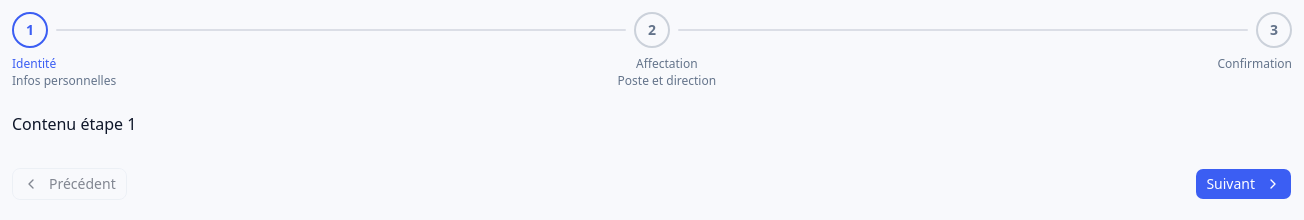
Stepper — navigation › revient à l'étape précédente en cliquant Précédent
Click the button with test id "stepper-next-button".
click(1244, 184)  # box x1=1195 y1=168 x2=1292 y2=200
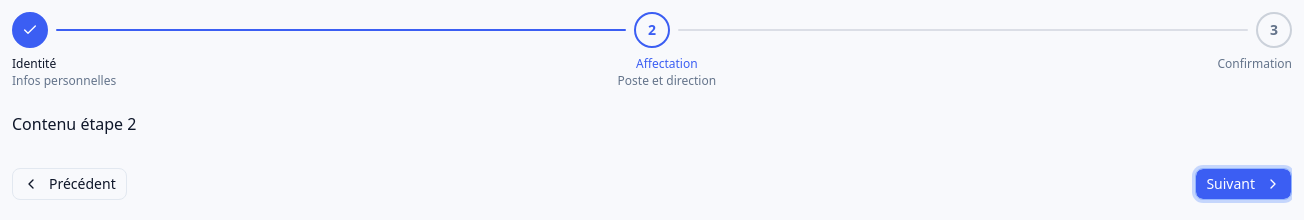
Click the button with test id "stepper-prev-button".
click(69, 184)  # box x1=12 y1=168 x2=127 y2=200
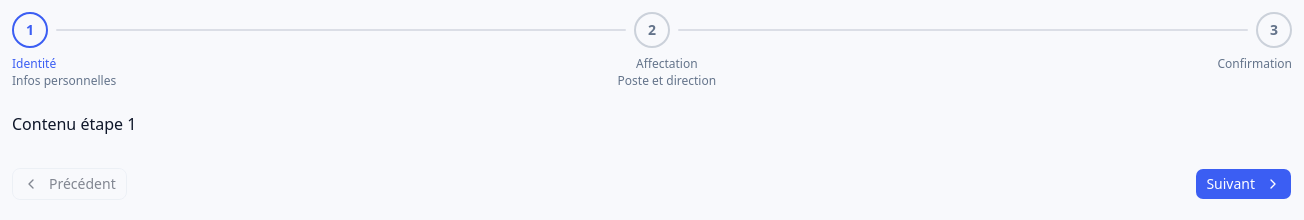
Expected: the text "Contenu étape 1" is shown, x1=12 y1=113 x2=136 y2=135
